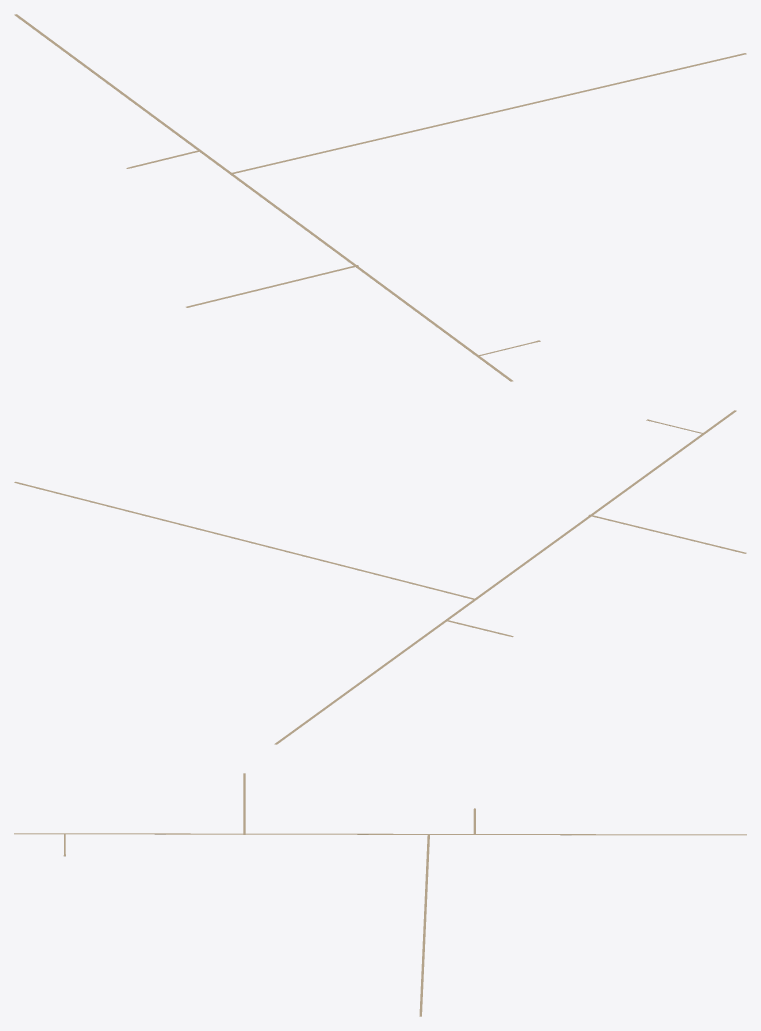
File: yong-road-receiver-component209.glb
The picture shows the model from 3 angles, top to bottom: view 1: azimuth 30°, elevation 25°; view 2: azimuth 150°, elevation 25°; view 3: azimuth 270°, elevation 25°; orthographic projection. The views are drawn at different scales.
Visible parts, largest first — view 1: C_stitch_primary_yong_receiver_component209; view 2: C_stitch_primary_yong_receiver_component209; view 3: C_stitch_primary_yong_receiver_component209.
Boxes of the visible parts, <box> form: C_stitch_primary_yong_receiver_component209: <box>14,14,746,381</box>; C_stitch_primary_yong_receiver_component209: <box>14,410,746,744</box>; C_stitch_primary_yong_receiver_component209: <box>14,773,746,1016</box>.
Size of the model in its own units: 1402 by 0.21 by 1786.
